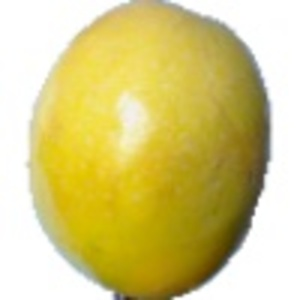maracujá: (25, 1, 274, 300)
